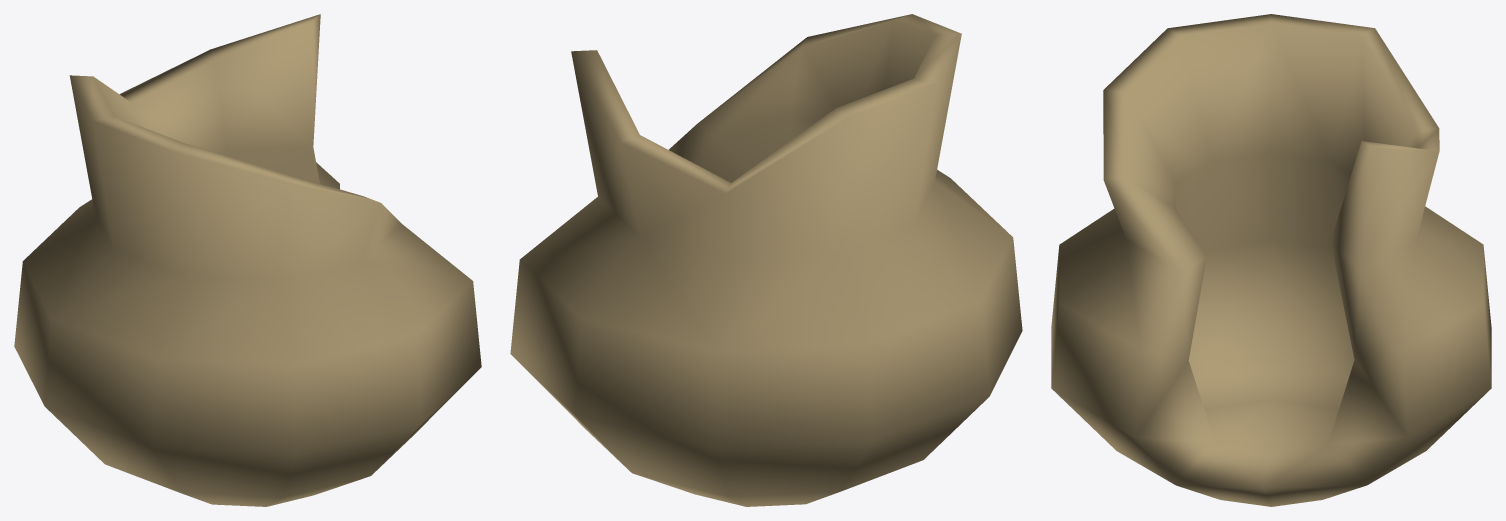
The model's file is rpgpp_av_jug_01b.gltf.
3 views of the same model, side by side, from view 1: azimuth 30°, elevation 25°; view 2: azimuth 150°, elevation 25°; view 3: azimuth 270°, elevation 25° (orthographic). The views are drawn at different scales.
Parts seen in each view (by area): view 1: rpgpp_av_jug_01b; view 2: rpgpp_av_jug_01b; view 3: rpgpp_av_jug_01b.
Boxes of the visible parts, left/top/right/bottom form: rpgpp_av_jug_01b: left=14, top=14, right=481, bottom=506; rpgpp_av_jug_01b: left=510, top=14, right=1022, bottom=506; rpgpp_av_jug_01b: left=1051, top=14, right=1491, bottom=506.
Size of the model in its own units: 0.00295 by 0.00296 by 0.0031.
1 material, 1 textured.
